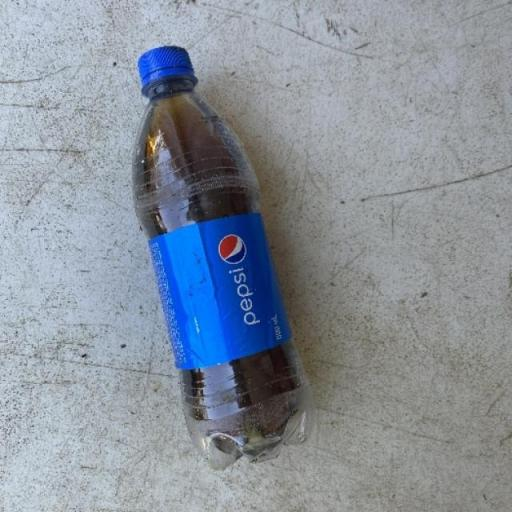plastic: (130, 44, 315, 470)
